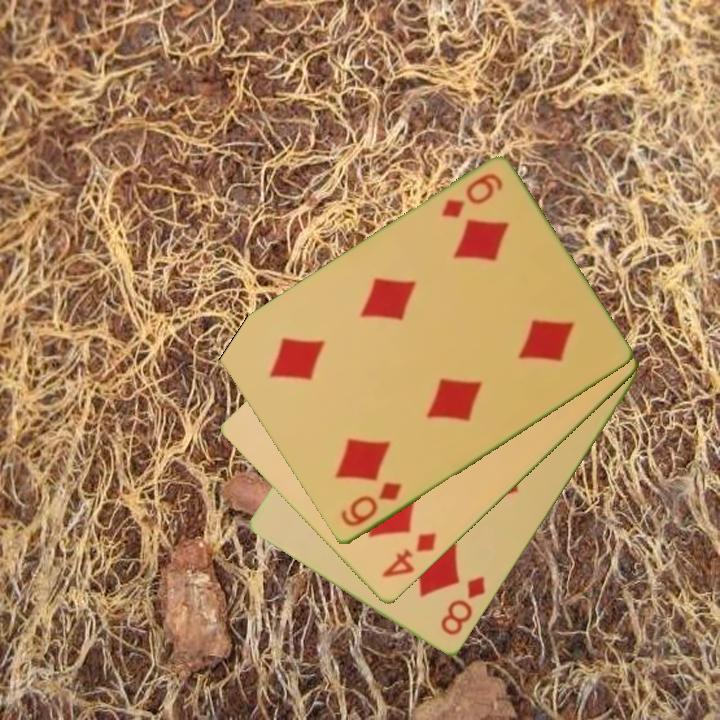4d: (378, 529, 440, 581)
6d: (437, 170, 506, 222), (337, 479, 405, 531)
8d: (437, 573, 489, 639)
